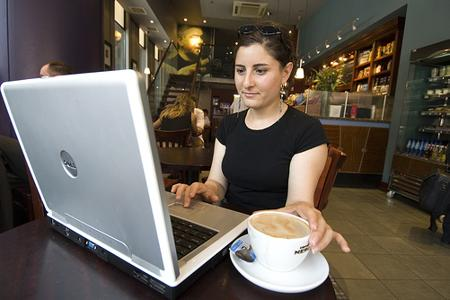person: (172, 26, 354, 253)
